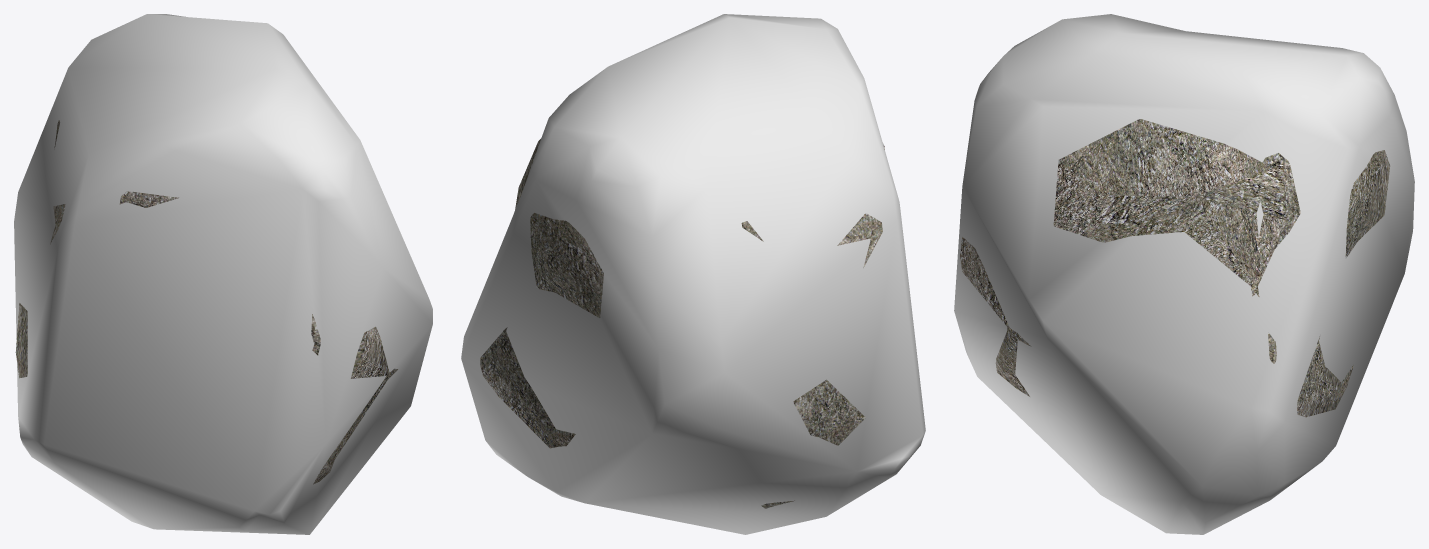
The model's file is boulder_3.dae.
The picture shows the model from 3 angles, left to right: view 1: azimuth 30°, elevation 25°; view 2: azimuth 150°, elevation 25°; view 3: azimuth 270°, elevation 25°; orthographic projection. The views are drawn at different scales.
Visible parts, largest first — view 1: volume, boulder; view 2: volume, boulder; view 3: volume, boulder.
Boxes of the visible parts, x1,y1,x2,y2 form: volume: [14, 14, 432, 534]; boulder: [15, 120, 397, 484]; volume: [461, 14, 925, 534]; boulder: [480, 139, 884, 508]; volume: [954, 14, 1414, 534]; boulder: [960, 119, 1390, 417].
Size of the model in its own units: 2.02 by 2.07 by 2.32.
Materials: 1 (1 with a texture image).
